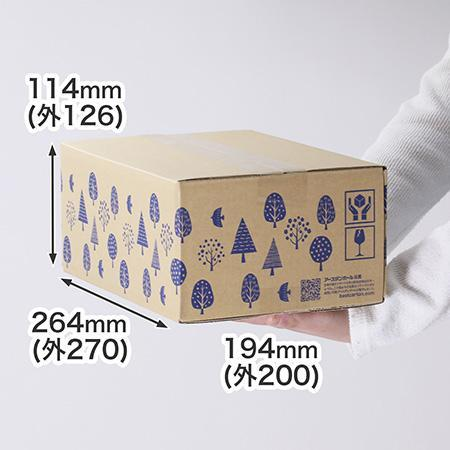box: (48, 135, 420, 333)
